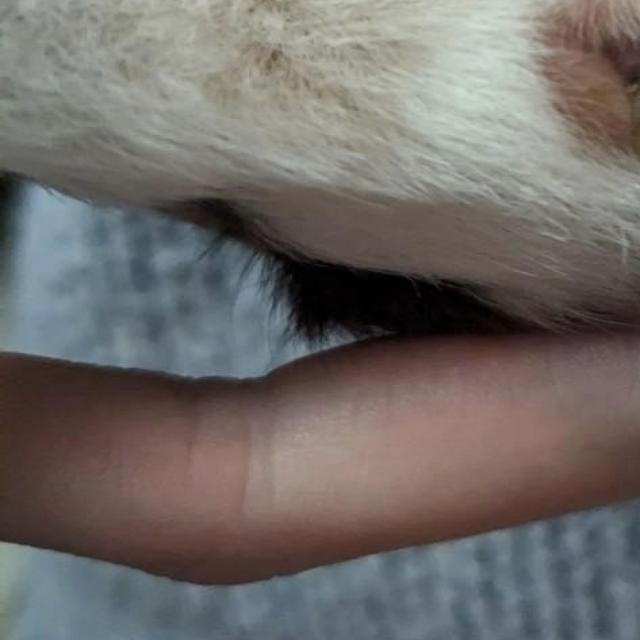fem: (528, 0, 640, 173)
